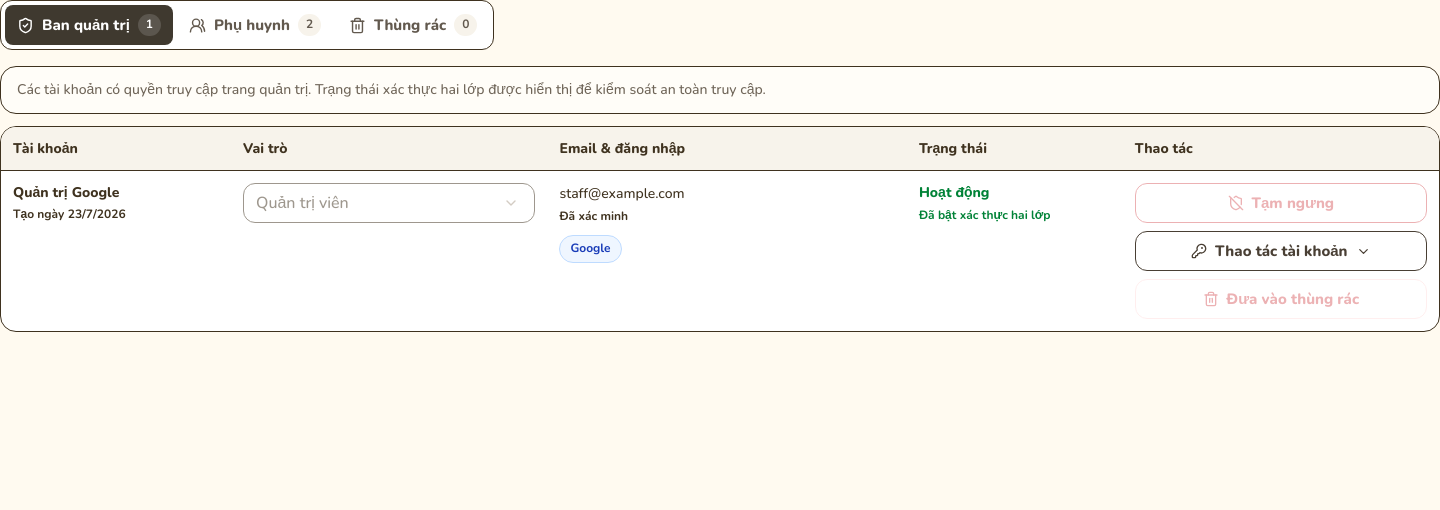
Scenario: MemberManager › shows one member group at a time and switches tabs
The width and height of the screenshot is (1440, 510).
expect the text "parent@example.com" is not shown: met
Step 1. Click the tab with aria-label "Phụ huynh, 2 tài khoản" → (255, 25), box [177,5,333,45]
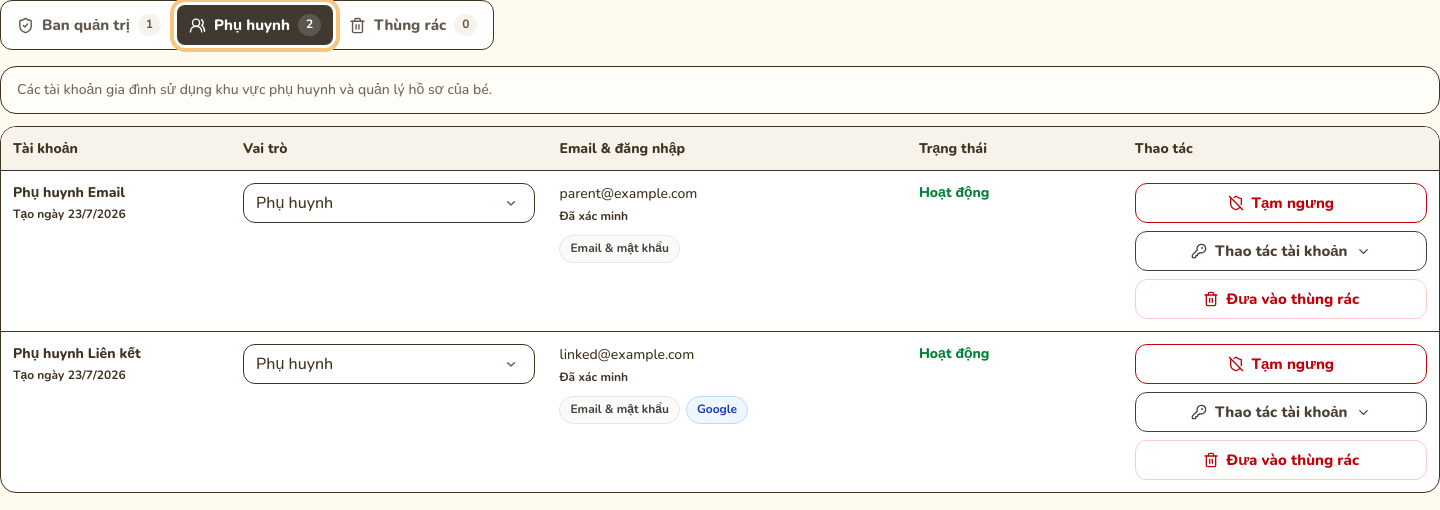
expect the text "parent@example.com" is shown 2 times: met
expect the text "Email & mật khẩu" is shown 4 times: met
expect the text "Google" is shown 2 times: met
